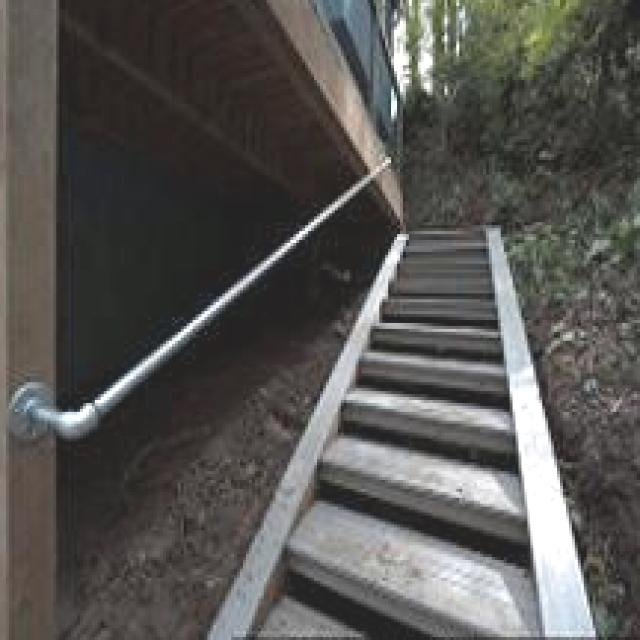upstair: (303, 285, 564, 640)
